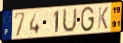1: (53, 10, 59, 34)
4: (29, 11, 42, 36)
7: (14, 11, 27, 38)
G: (80, 6, 96, 33)
K: (97, 6, 110, 30)
U: (61, 7, 78, 34)
